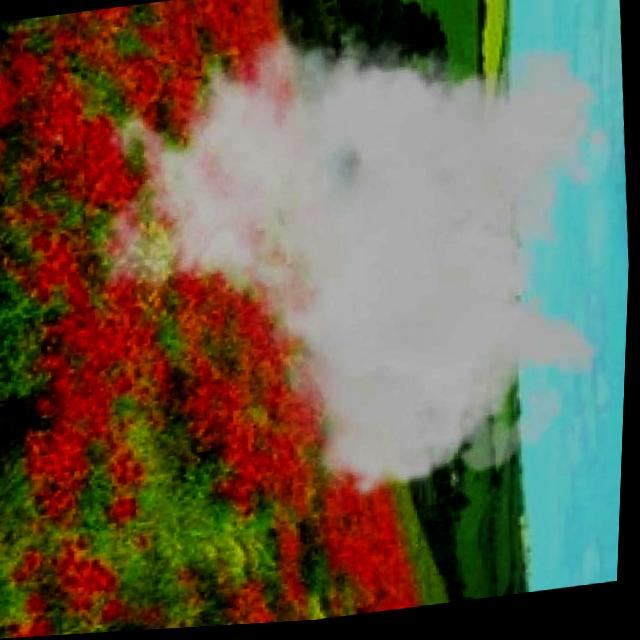no_helmet: (81, 0, 626, 537)
